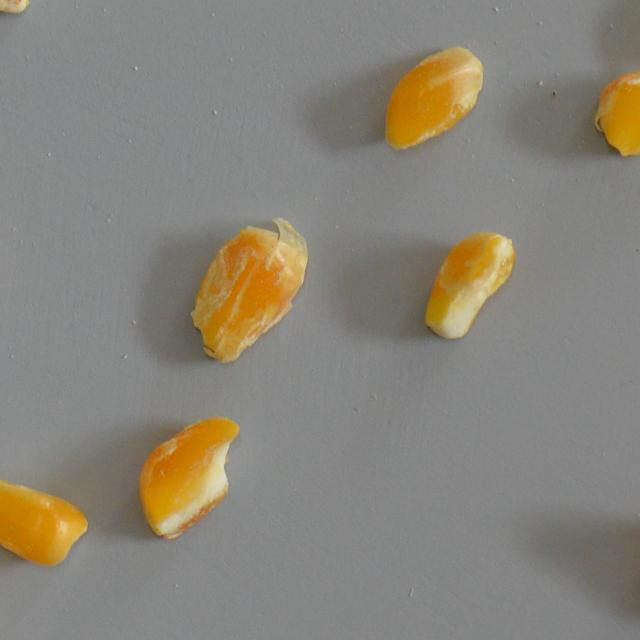pelicula: (189, 216, 309, 362), (132, 412, 240, 540), (378, 43, 486, 154), (422, 228, 516, 340), (0, 470, 90, 572), (592, 64, 640, 158)
